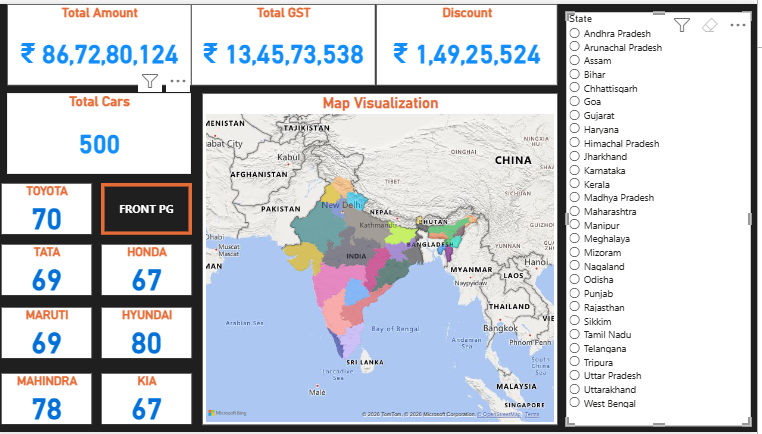

The dashboard page shown, as its layout file describes it:
{"tool":"powerbi","page":{"name":"Page 2","canvas":[1280,720],"ordinal":8},"visuals":[{"type":"filledMap","title":"Map Visualization","fields":{"Category":["car_sales_2025_india_updated.State"],"Series":["car_sales_2025_india_updated.Total_Amount"]},"box":[347.2,150.2,598.1,558.4],"z":0},{"type":"card","title":"Total Amount","fields":{"Values":["Sum(car_sales_2025_india_updated.Total_Amount)"]},"box":[20,0,310,136.7],"z":1000},{"type":"card","title":"Total GST","fields":{"Values":["Sum(car_sales_2025_india_updated.GST)"]},"box":[330,0,310,136.7],"z":2000},{"type":"card","title":"Discount","fields":{"Values":["Sum(car_sales_2025_india_updated.Discount)"]},"box":[640,0,305,136.7],"z":3000},{"type":"card","title":"Total Cars","fields":{"Values":["CountNonNull(car_sales_2025_india_updated.Car_Model)"]},"box":[20.2,149.5,199.9,136.1],"z":4000},{"type":"listSlicer","fields":{"Values":["car_sales_2025_india_updated.State"]},"box":[959.5,12.8,310.4,695.9],"z":5000},{"type":"card","title":"Cash","fields":{"Values":["CountNonNull(car_sales_2025_india_updated.Payment_Mode)"]},"box":[20.2,305.7,304,124.3],"z":6000},{"type":"card","title":"EMI","fields":{"Values":["CountNonNull(car_sales_2025_india_updated.Payment_Mode)"]},"box":[20.2,450.2,304,117.6],"z":7000},{"type":"card","title":"Loan","fields":{"Values":["CountNonNull(car_sales_2025_india_updated.Payment_Mode)"]},"box":[21.8,589.6,304,117.6],"z":8000},{"type":"actionButton","box":[216.7,149.5,131,136.1],"z":8001}]}

Visuals, with their boxes in screenshot pixels (x1, y1, x2, y2), scaled from the page's 1280x720 canvas onto the 762x434 screenshot:
"Map Visualization" filledMap: [207,91,563,427]
"Total Amount" card: [12,0,196,82]
"Total GST" card: [196,0,381,82]
"Discount" card: [381,0,563,82]
"Total Cars" card: [12,90,131,172]
listSlicer - car_sales_2025_india_updated.State: [571,8,756,427]
"Cash" card: [12,184,193,259]
"EMI" card: [12,271,193,342]
"Loan" card: [13,355,194,426]
actionButton: [129,90,207,172]
